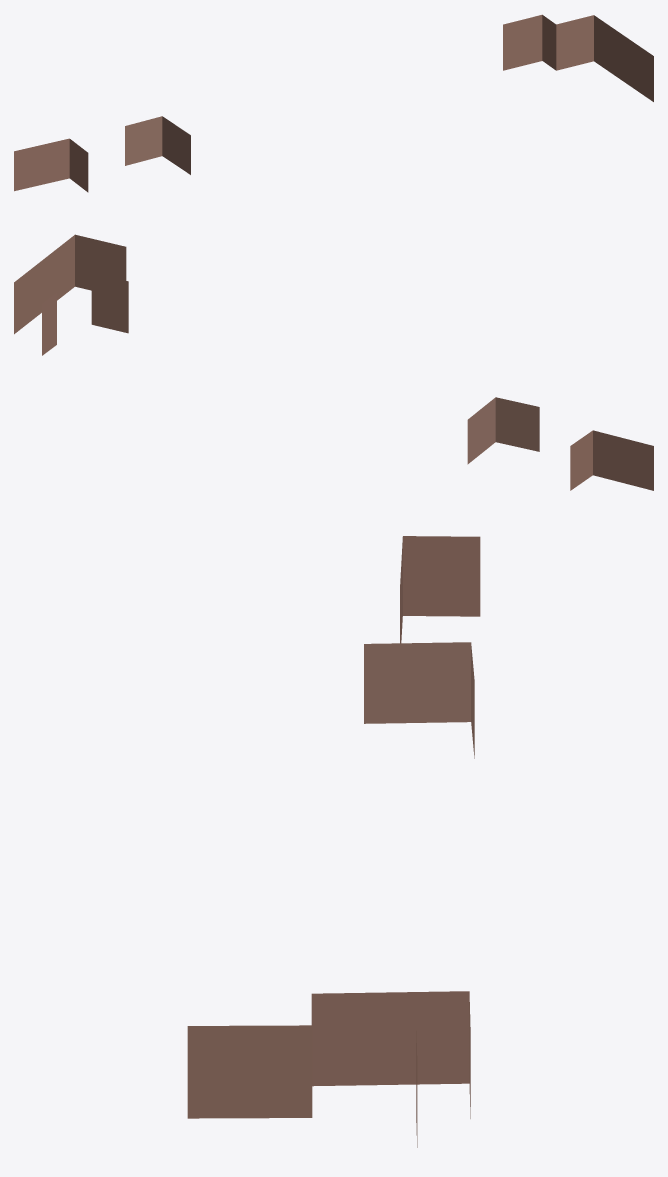
The model's file is c_1632_17829_buildings_residential.glb.
3 views of the same model, one above another, from view 1: azimuth 30°, elevation 25°; view 2: azimuth 150°, elevation 25°; view 3: azimuth 270°, elevation 25° (orthographic). The views are drawn at different scales.
Visible parts, largest first — view 1: geometry_0; view 2: geometry_0; view 3: geometry_0.
Boxes of the visible parts, x1=… form: geometry_0: x1=14, y1=14, x2=653, y2=192; geometry_0: x1=14, y1=234, x2=653, y2=490; geometry_0: x1=187, y1=536, x2=480, y2=1147.
Bounding box in the file's own units: 141 × 11.98 × 31.52.
